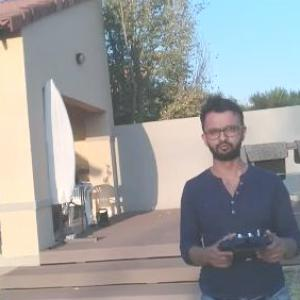follow: (172, 91, 300, 299)
